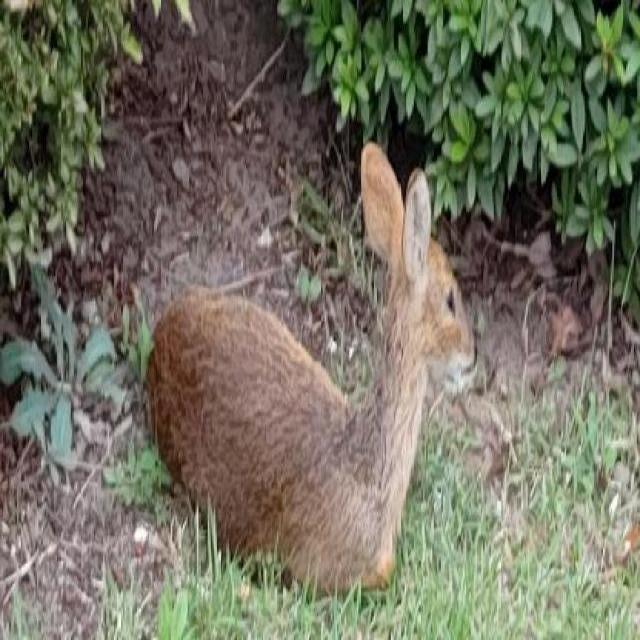deer: (143, 133, 480, 596)
